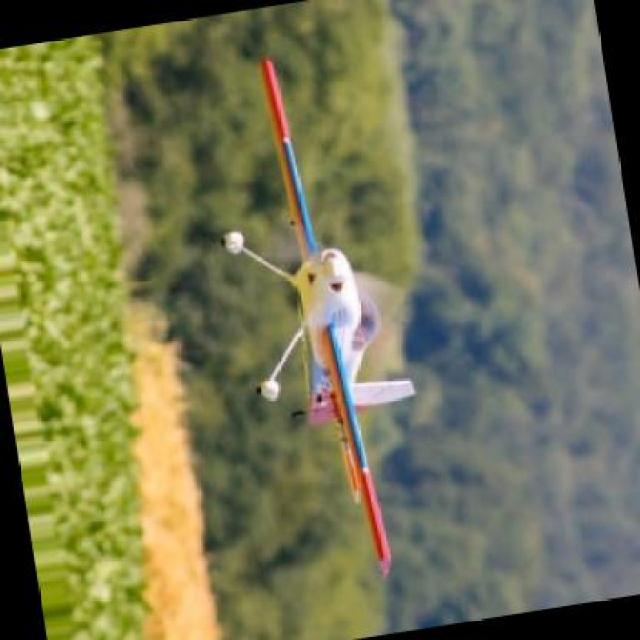iha: (222, 60, 416, 576)
